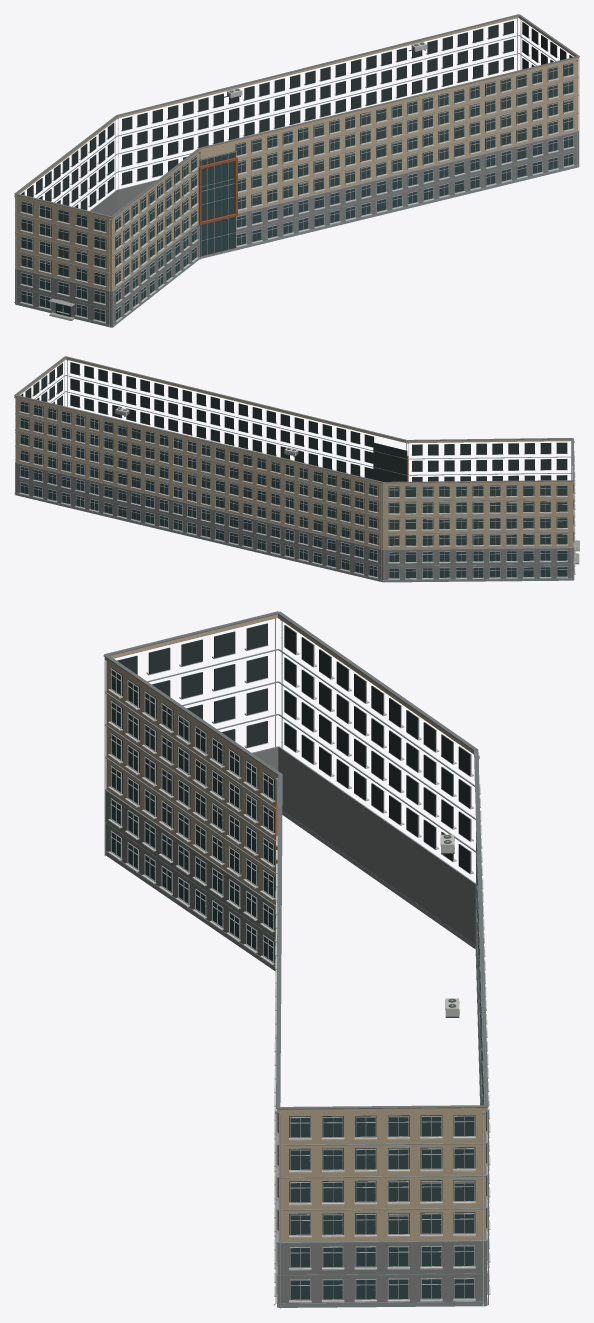
Rendered from osm_way_1173057050.glb.
3 renders of one model, top to bottom at view 1: azimuth 30°, elevation 25°; view 2: azimuth 150°, elevation 25°; view 3: azimuth 270°, elevation 25°, orthographic. The views are drawn at different scales.
Visible parts, largest first — view 1: Windows and facade details | 电子与光学工程学院、柔性材料（未来技术）学院, Architecture | 电子与光学工程学院、柔性材料（未来技术）学院, Roof services | 电子与光学工程学院、柔性材料（未来技术）学院, EXTERIOR::osm_way_1173057050::rainwater and roof service det; view 2: Windows and facade details | 电子与光学工程学院、柔性材料（未来技术）学院, Architecture | 电子与光学工程学院、柔性材料（未来技术）学院, Roof services | 电子与光学工程学院、柔性材料（未来技术）学院, EXTERIOR::osm_way_1173057050::rainwater and roof service det; view 3: Windows and facade details | 电子与光学工程学院、柔性材料（未来技术）学院, Architecture | 电子与光学工程学院、柔性材料（未来技术）学院, Roof services | 电子与光学工程学院、柔性材料（未来技术）学院, EXTERIOR::osm_way_1173057050::rainwater and roof service det.
Boxes of the visible parts, box(x1,y1,x2,y2) form: Windows and facade details | 电子与光学工程学院、柔性材料（未来技术）学院: box(16, 18, 579, 327); Architecture | 电子与光学工程学院、柔性材料（未来技术）学院: box(15, 16, 579, 327); Roof services | 电子与光学工程学院、柔性材料（未来技术）学院: box(14, 14, 579, 217); EXTERIOR::osm_way_1173057050::rainwater and roof service det: box(14, 19, 578, 327); Windows and facade details | 电子与光学工程学院、柔性材料（未来技术）学院: box(15, 361, 575, 582); Architecture | 电子与光学工程学院、柔性材料（未来技术）学院: box(14, 357, 574, 582); Roof services | 电子与光学工程学院、柔性材料（未来技术）学院: box(14, 356, 574, 483); EXTERIOR::osm_way_1173057050::rainwater and roof service det: box(14, 360, 574, 582); Windows and facade details | 电子与光学工程学院、柔性材料（未来技术）学院: box(104, 618, 490, 1308); Architecture | 电子与光学工程学院、柔性材料（未来技术）学院: box(104, 614, 487, 1307); Roof services | 电子与光学工程学院、柔性材料（未来技术）学院: box(103, 611, 488, 1109); EXTERIOR::osm_way_1173057050::rainwater and roof service det: box(273, 620, 484, 1306).
Bounding box in the file's own units: 122 × 23.58 × 39.92.
